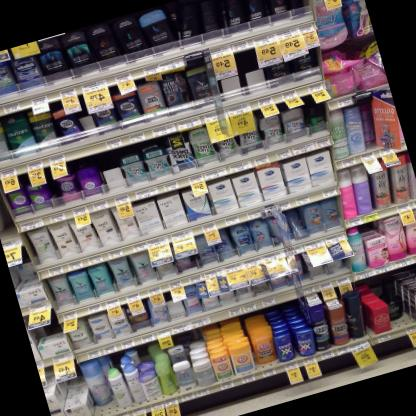empty_space: (95, 148, 126, 194), (233, 47, 266, 89)
